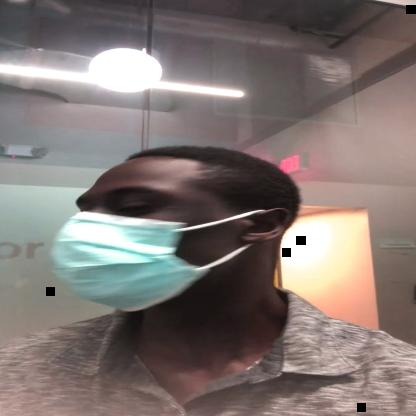mask: (52, 163, 288, 313)
